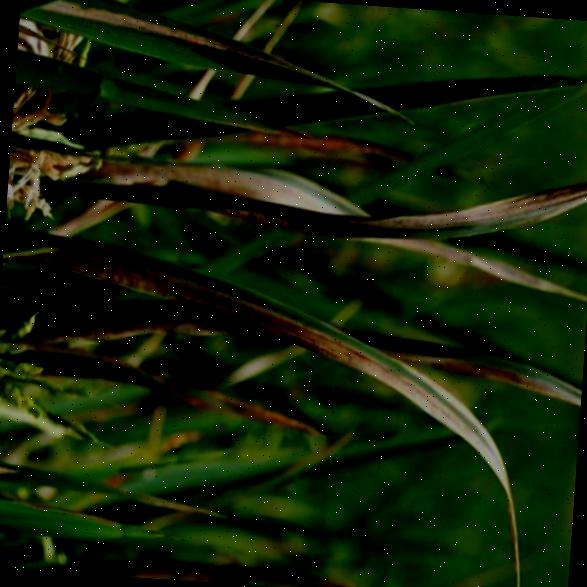Bacteria_Leaf_Blight: (44, 240, 432, 406), (359, 162, 587, 273), (36, 0, 298, 68)
